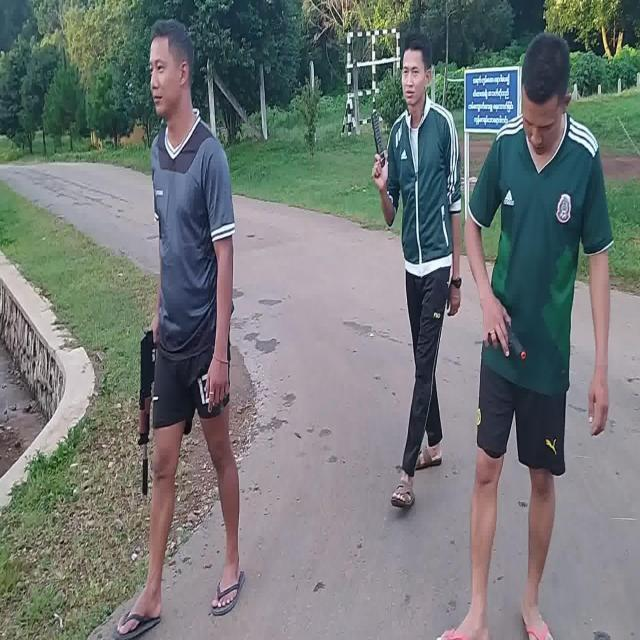gun: (140, 330, 156, 494), (489, 320, 526, 358)
